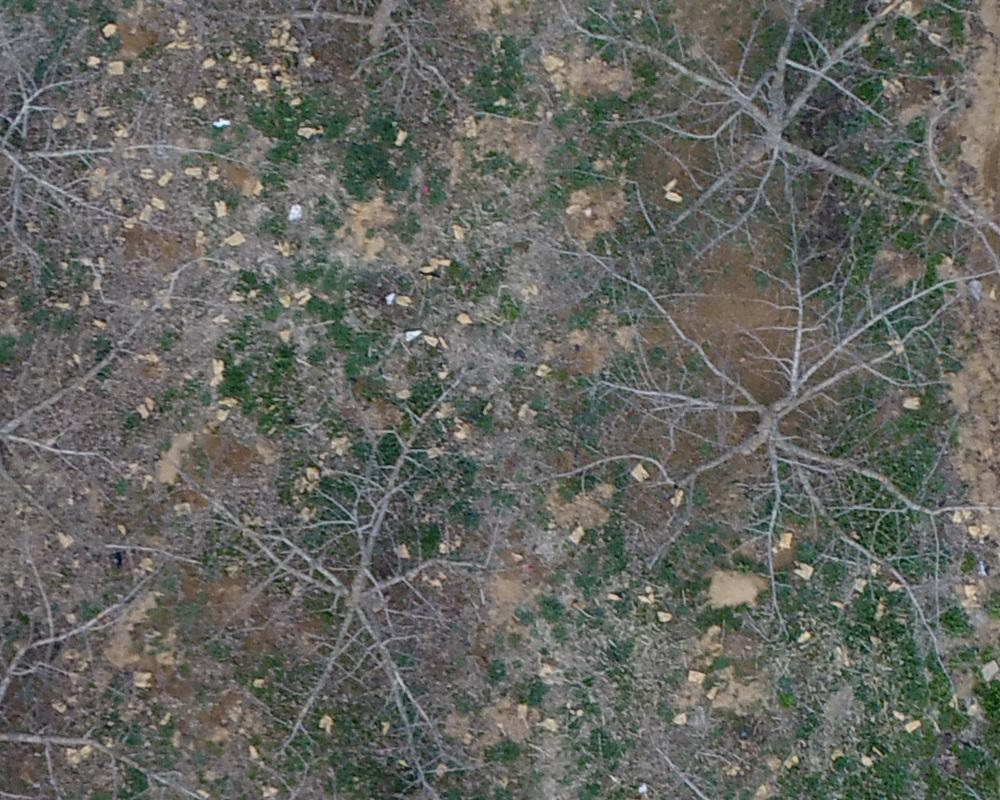apple: (570, 226, 990, 651), (201, 371, 504, 790), (580, 10, 981, 251), (10, 10, 174, 261)
